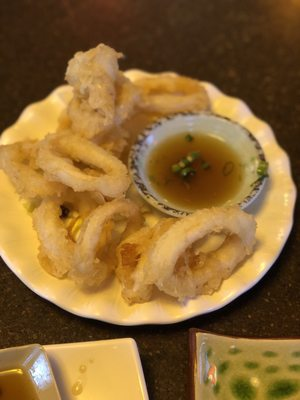salad: (0, 344, 63, 400)
sushi: (0, 338, 150, 400)
